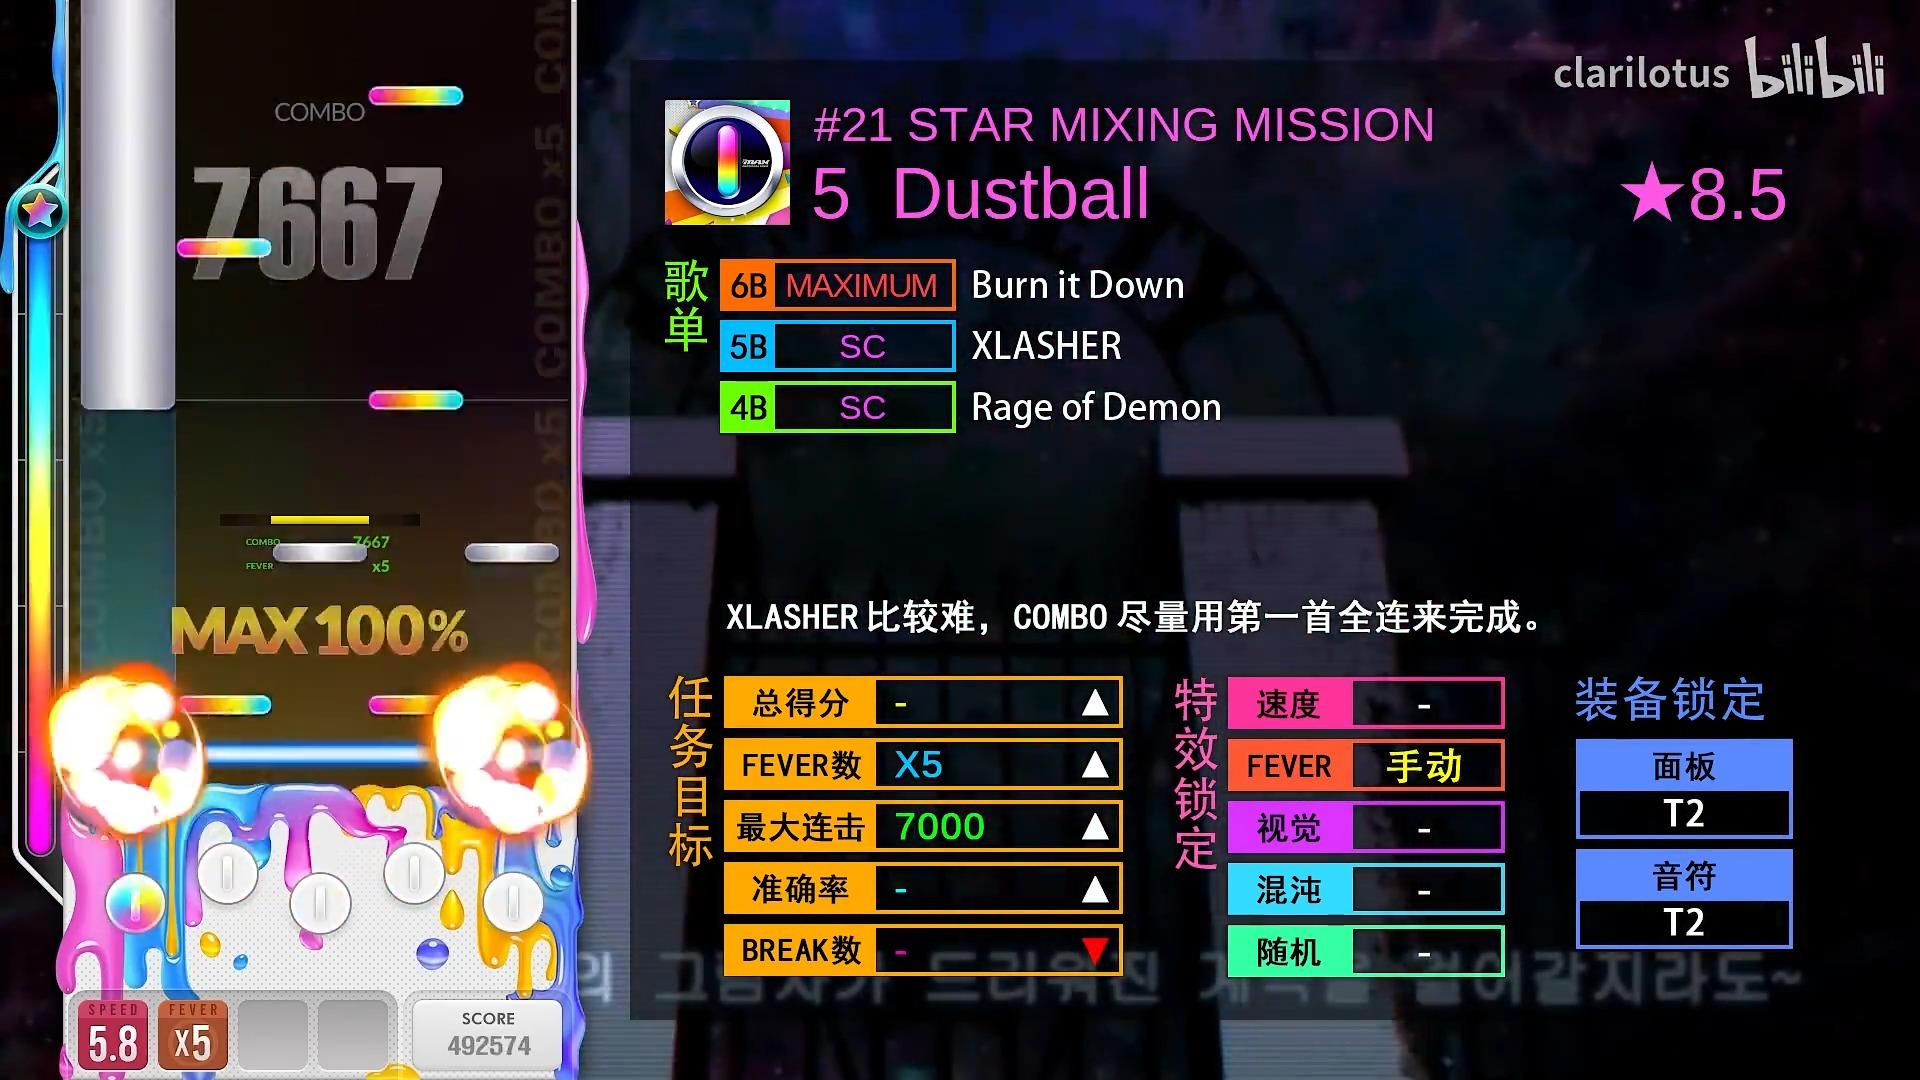hold-start: (80, 392, 175, 410)
note: (272, 542, 368, 564), (177, 695, 273, 717), (465, 542, 559, 564), (368, 389, 464, 410), (177, 239, 272, 258), (369, 695, 464, 715), (369, 87, 463, 107)
